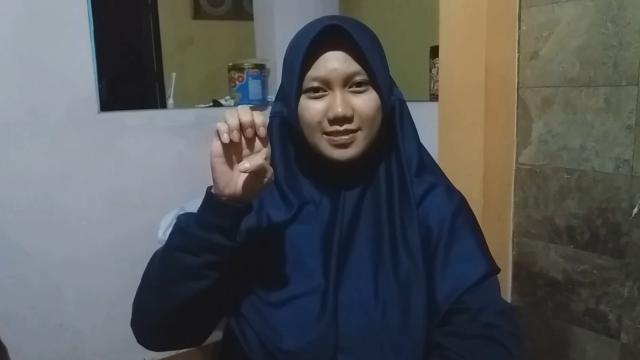E: (208, 102, 276, 195)
